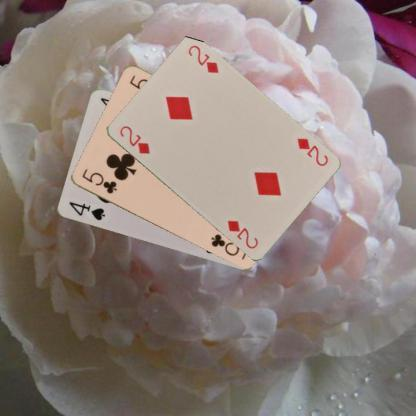2d: (294, 135, 329, 168), (117, 122, 151, 155)
4s: (66, 199, 106, 222)
5c: (78, 166, 118, 196)
